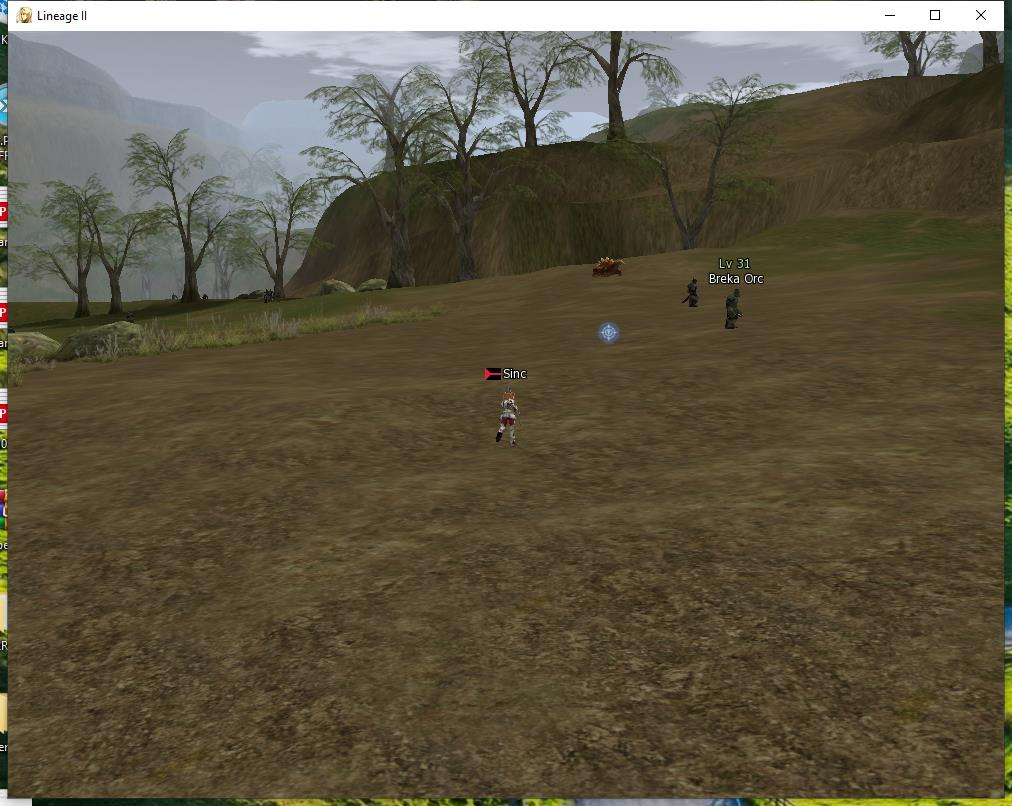monster: (708, 255, 769, 330), (675, 263, 707, 312), (591, 260, 631, 285)
